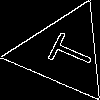T: (38, 27, 98, 75)
